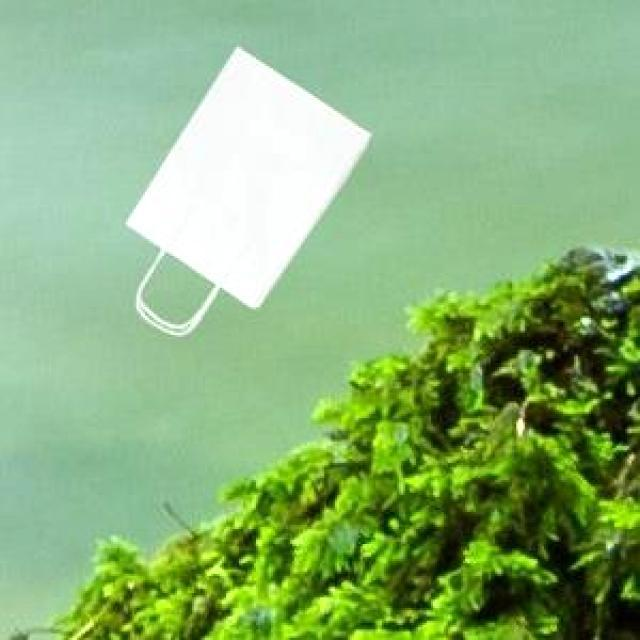Paper_Bag: (122, 44, 368, 332)
